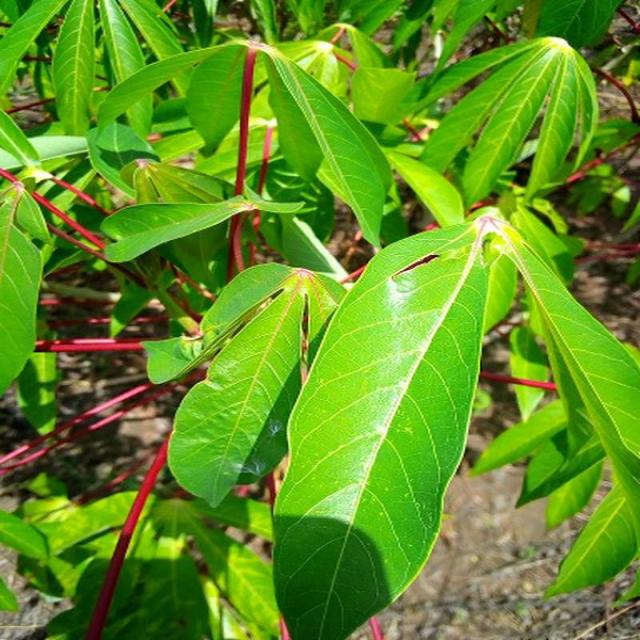cassava leaf: (270, 216, 490, 638), (166, 266, 347, 508), (254, 40, 394, 248)
